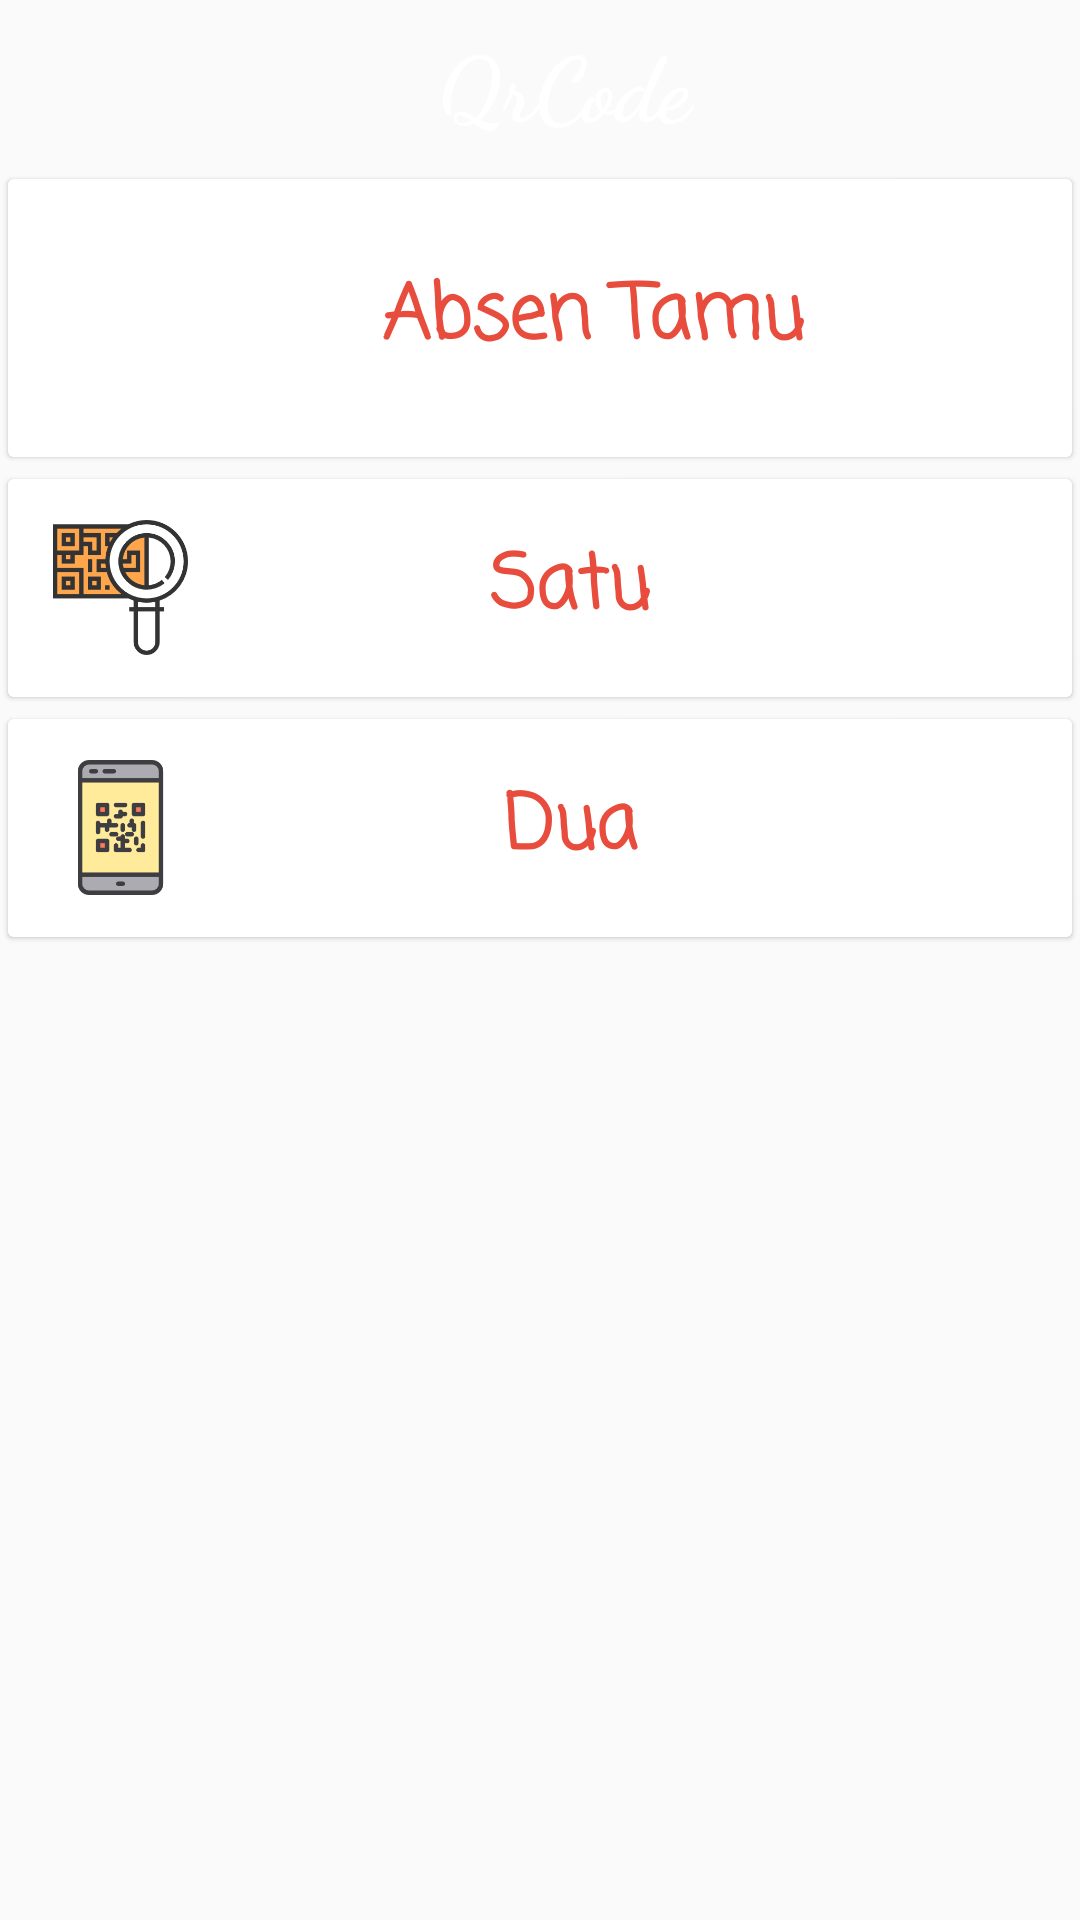

Icons on this 1080*1920 Android screen, each with the point to tap as (x,y):
find qr code: (120,587)
qr code phone: (120,827)
